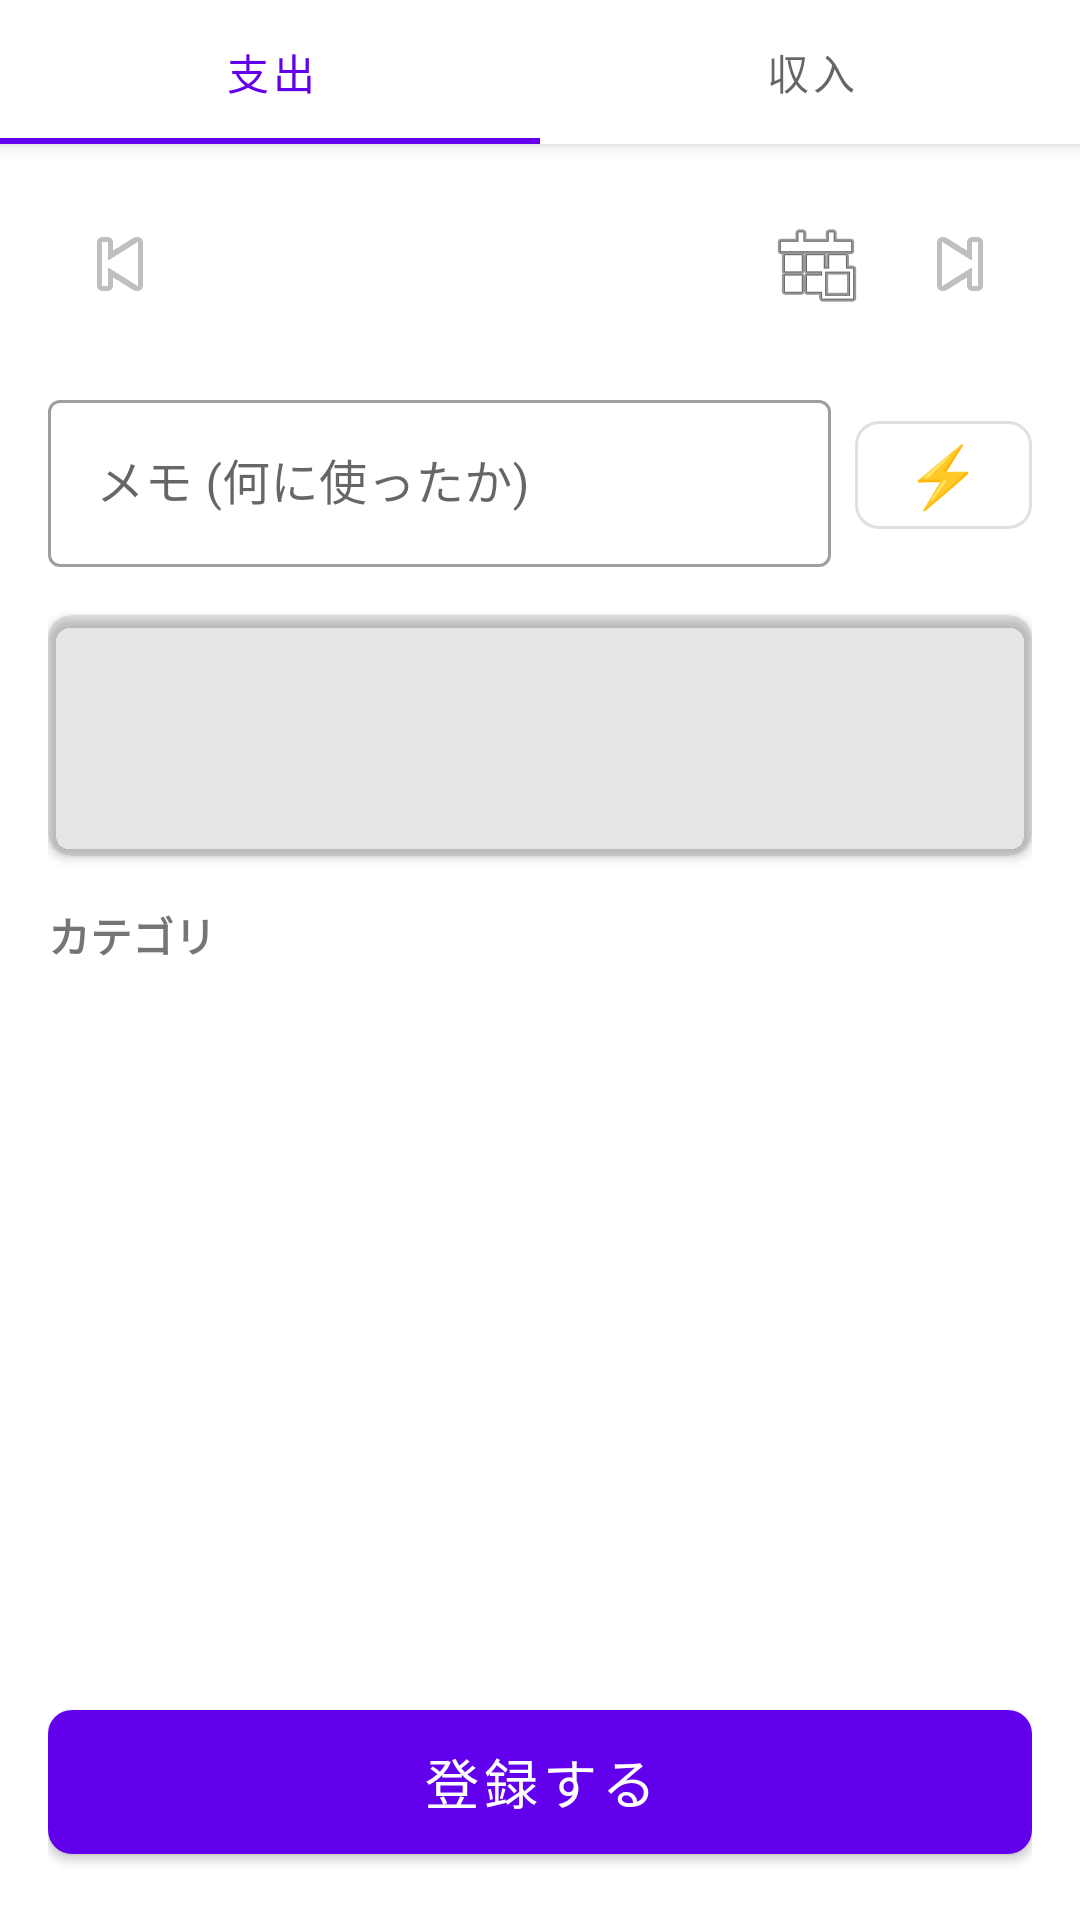

Icons on this 1080*1920 Android screen, each with its box as (x1=x1, y1=y1, x2=x2, y2=y2):
カレンダーから選択: (x1=778, y1=229, x2=856, y2=302)
前日: (x1=97, y1=237, x2=143, y2=291)
翌日: (x1=937, y1=237, x2=983, y2=291)
